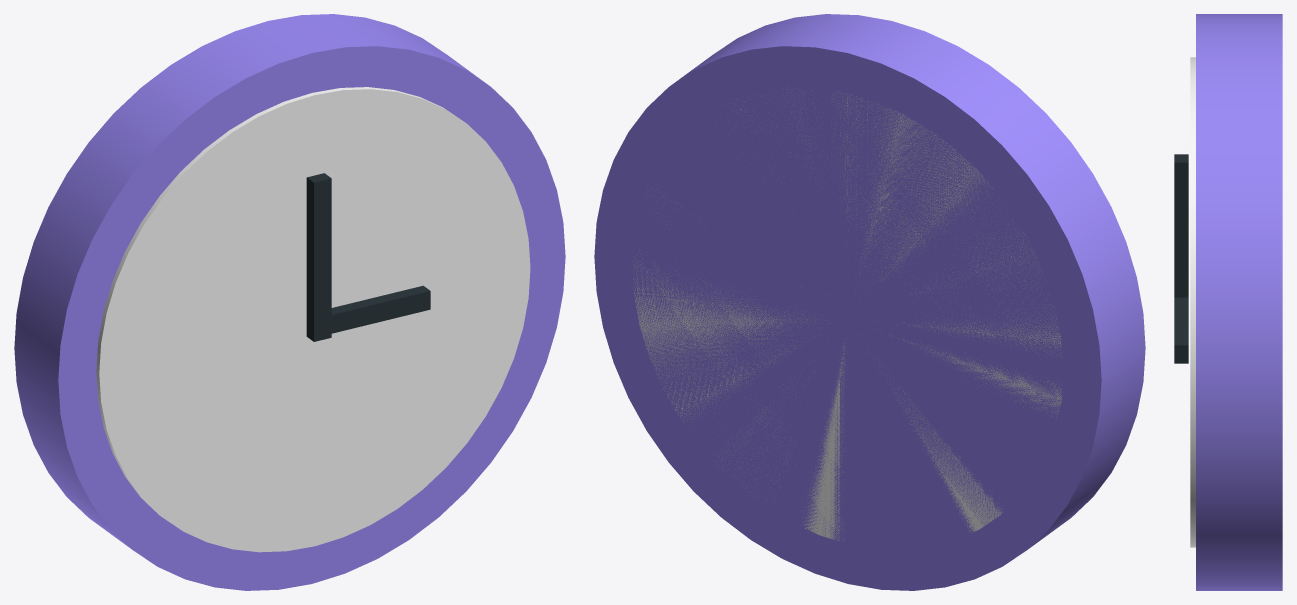
File: orasan.glb
3 views of the same model, side by side, from view 1: azimuth 30°, elevation 25°; view 2: azimuth 150°, elevation 25°; view 3: azimuth 270°, elevation 25° (orthographic).
Bounding box in the file's own units: 2 × 2 × 0.375.
